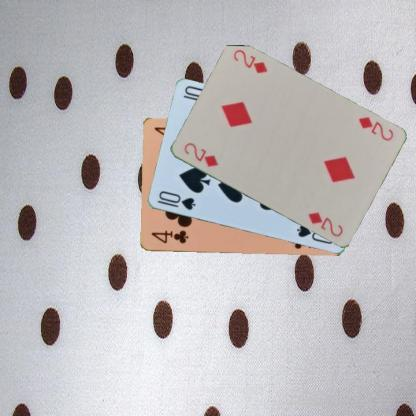10s: (154, 188, 196, 212)
2d: (355, 114, 395, 142), (181, 140, 219, 168)
4c: (148, 228, 190, 246)
